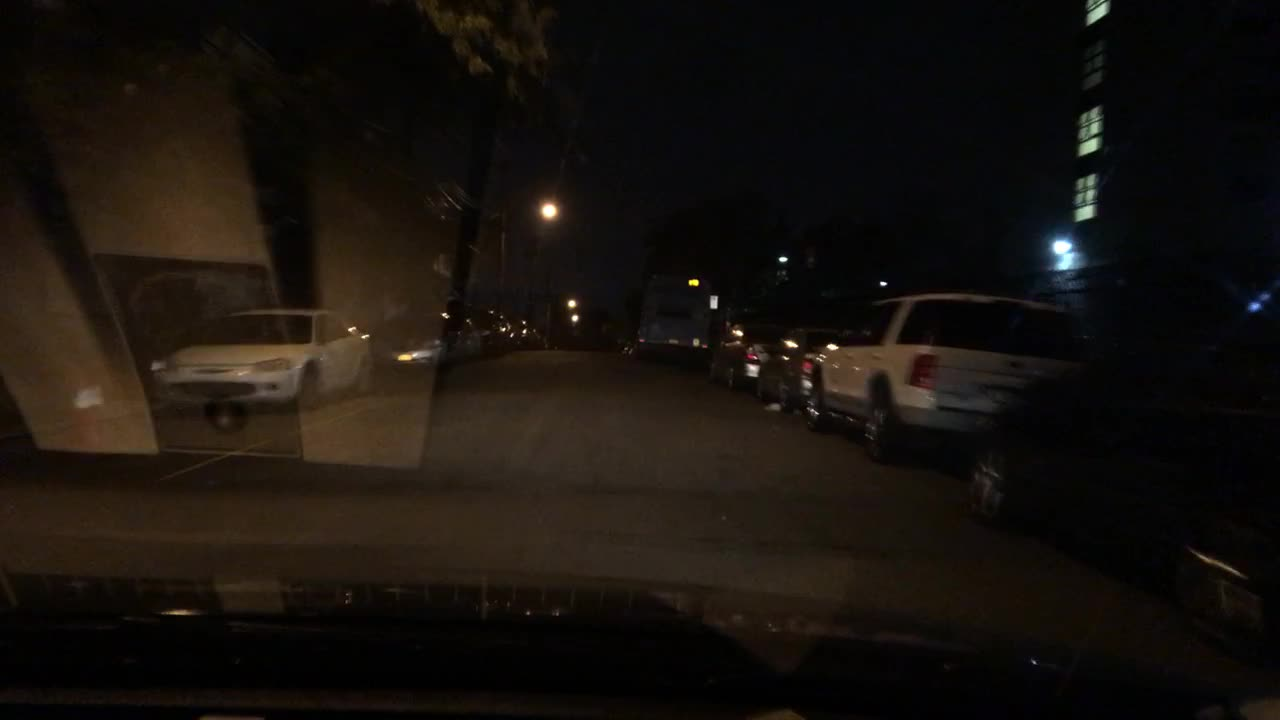bus: (630, 268, 715, 365)
car: (967, 312, 1278, 665), (799, 294, 1089, 463), (146, 307, 379, 412), (751, 326, 844, 415), (370, 312, 480, 371), (707, 319, 790, 392), (475, 310, 517, 356), (505, 316, 537, 349), (529, 326, 549, 349)
